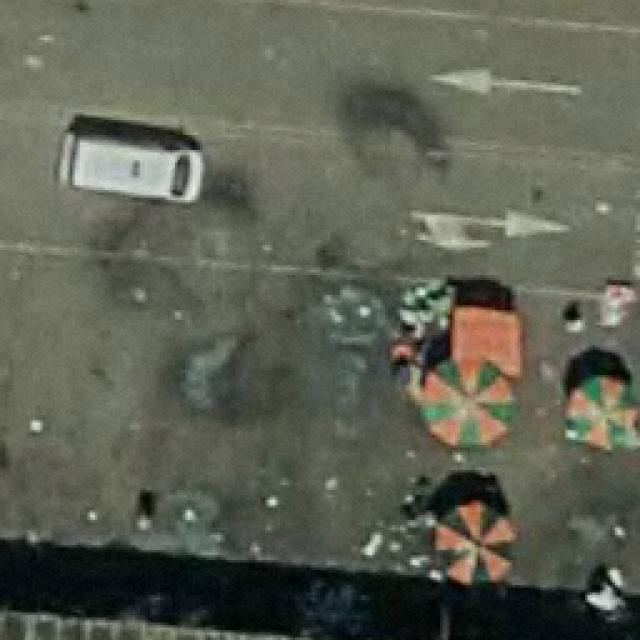vendedor_ambulante: (416, 348, 522, 452), (430, 483, 522, 589), (555, 362, 640, 458)
